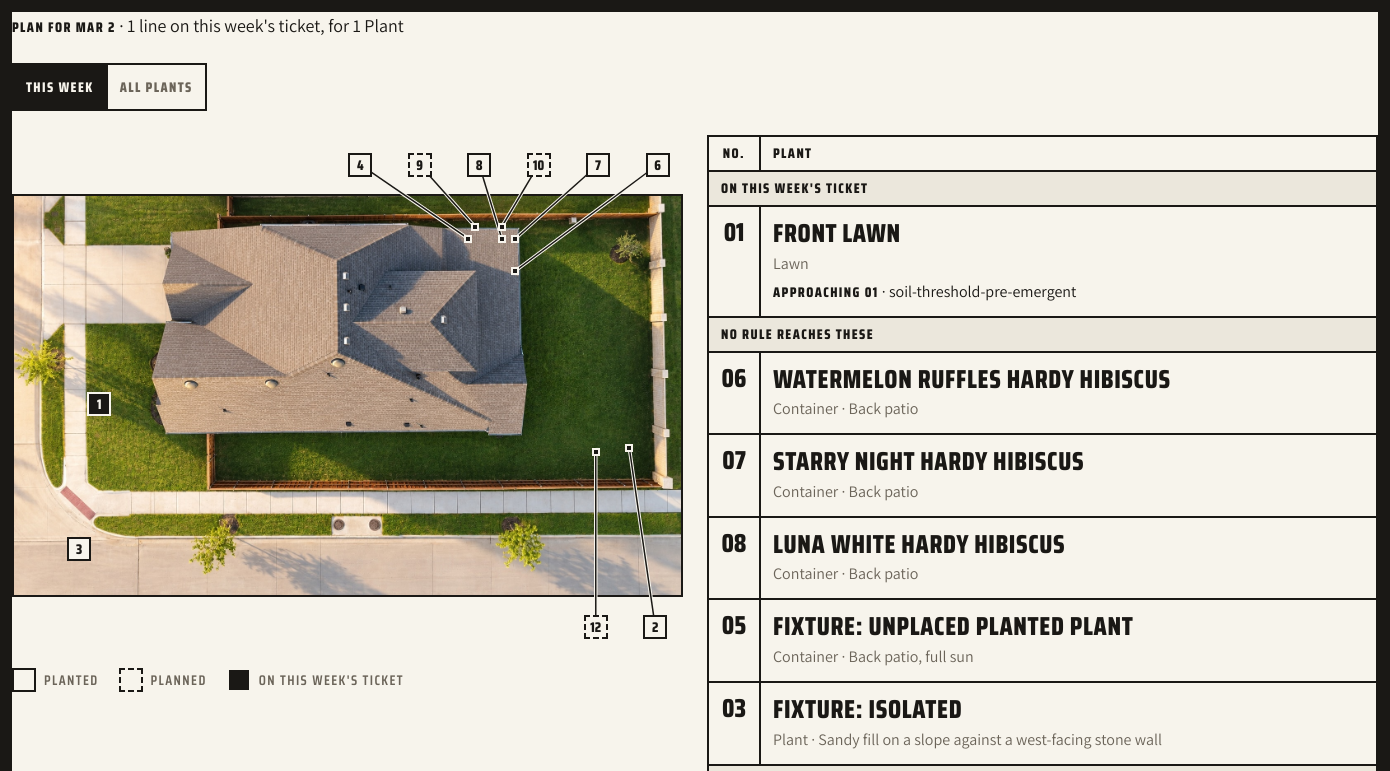
Test: yard › the view toggle › switches to the inventory and puts it in the link
This screenshot has width=1390, height=771.
Click the button "All plants" at x=155, y=87, box left=106, top=65, right=205, bottom=109
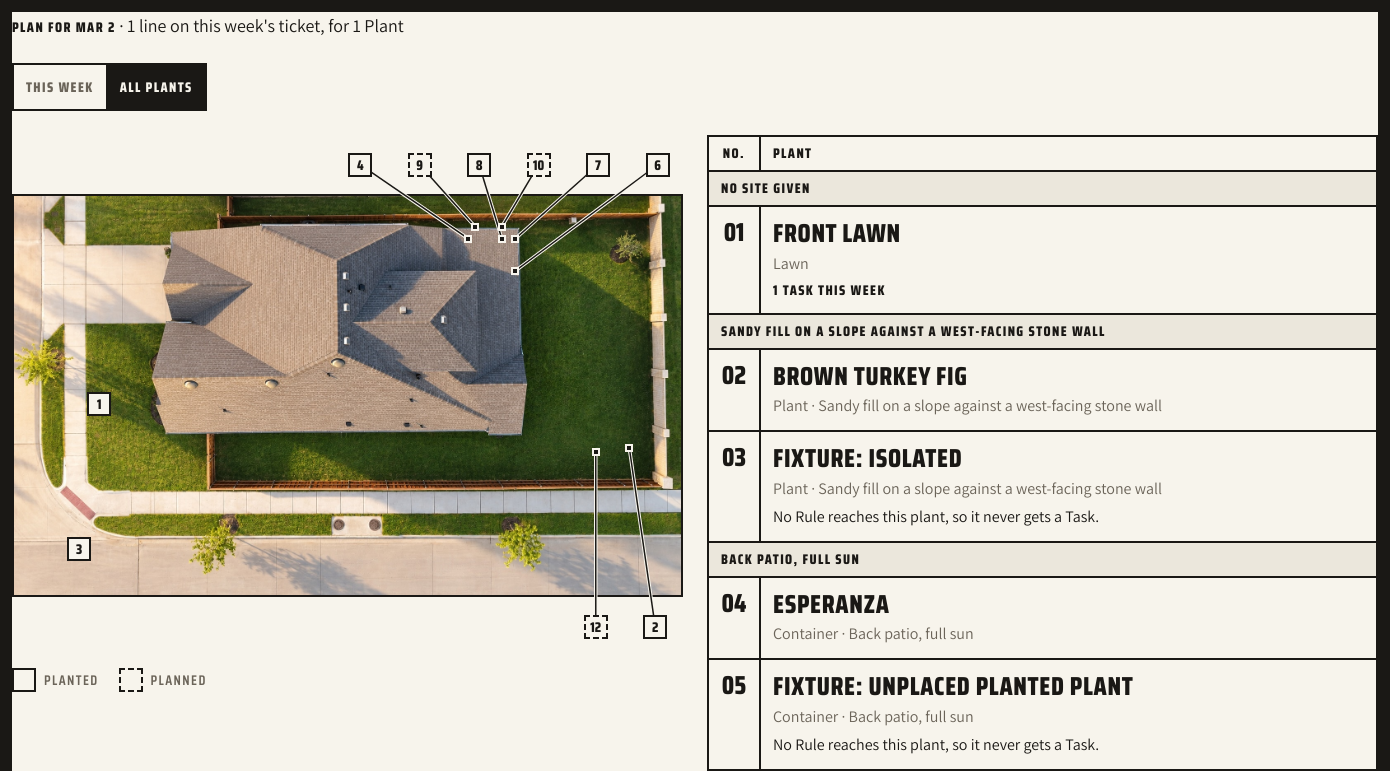
Expected: the text "1 task this week" is shown, left=773, top=279, right=886, bottom=301
